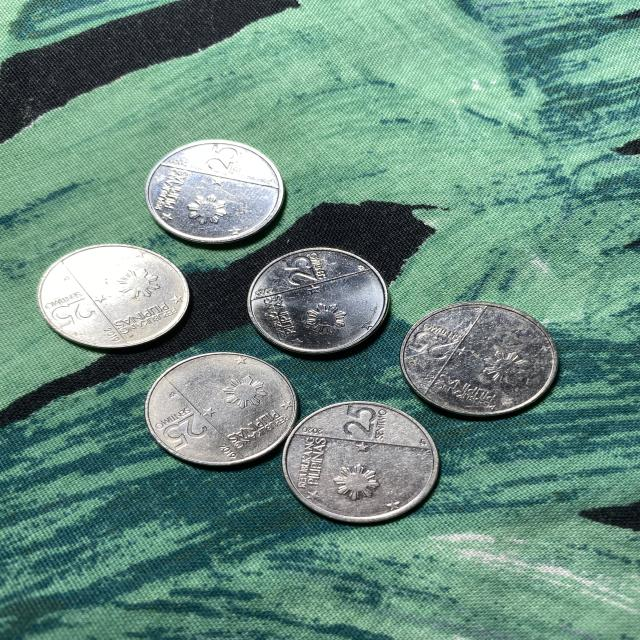25Cent_New_Front: (164, 412, 207, 448), (49, 299, 98, 329), (340, 404, 380, 440), (277, 256, 321, 288), (410, 329, 453, 360), (204, 147, 239, 173)
